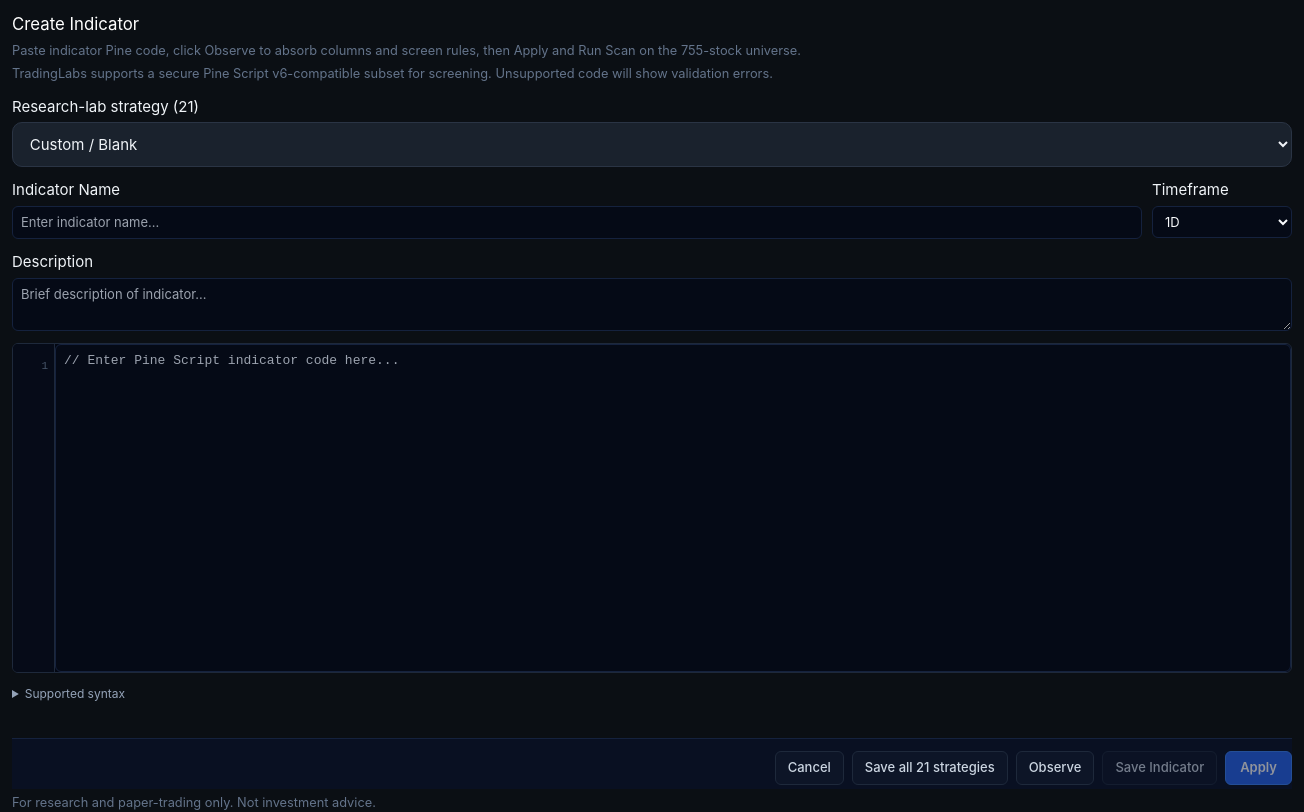
Test: IndicatorEditorPanel › validates successfully and enables save
Type "52-Week High Breakout [SCAN]" into the field with test id "input-indicator-name". click: x=577, y=223
box: [12,206,1142,239]
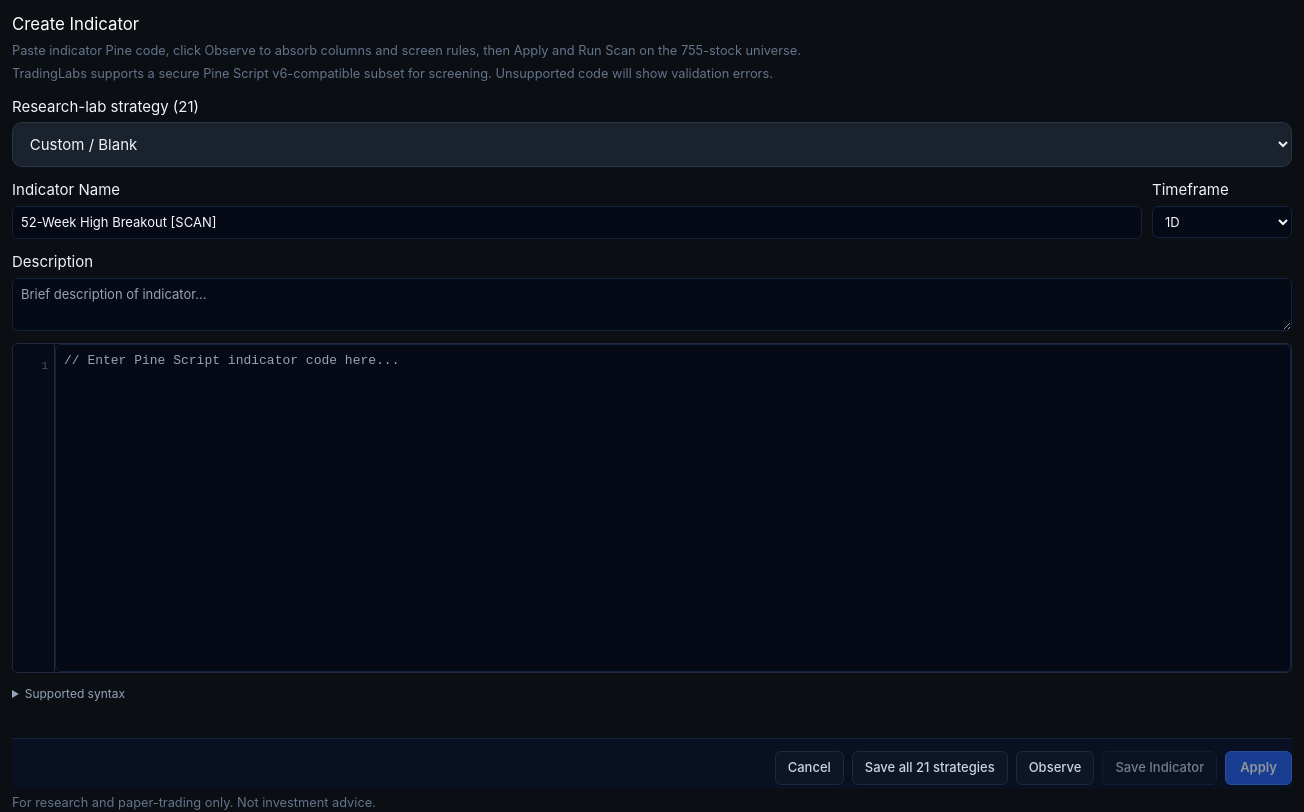
Type "//@version=6 indicator(\"52-Week High Breakout [SCAN]\", overlay=false) breakoutLength = input.int(252, \"Breakout Lookback\", minval=1) volumeLength = input.int(20, \"Volume SMA Length\", minval=1) atrLeng" into the text box with test id "pine-textarea". click: x=673, y=508
box: [55,344,1291,672]
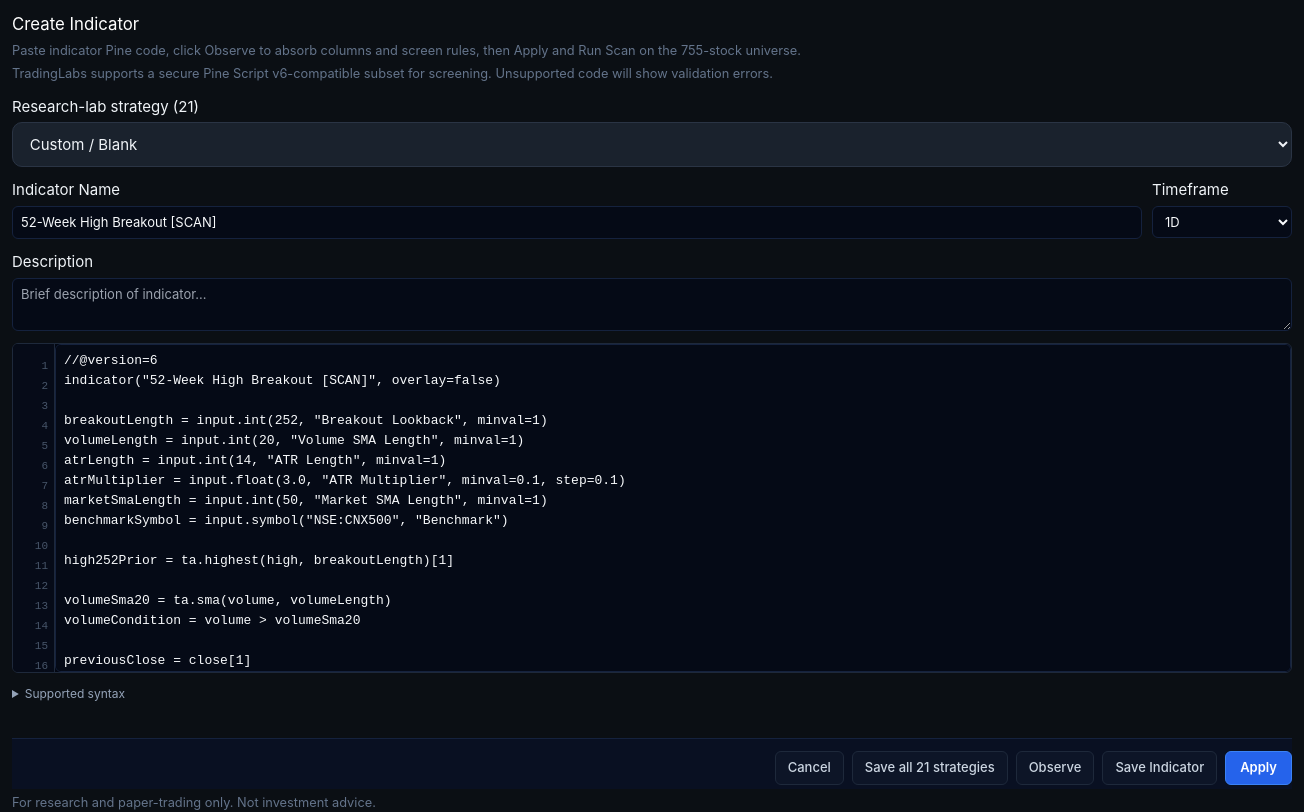
Click the button with test id "btn-validate-indicator". click: x=1055, y=768
box: [1016,751,1094,785]
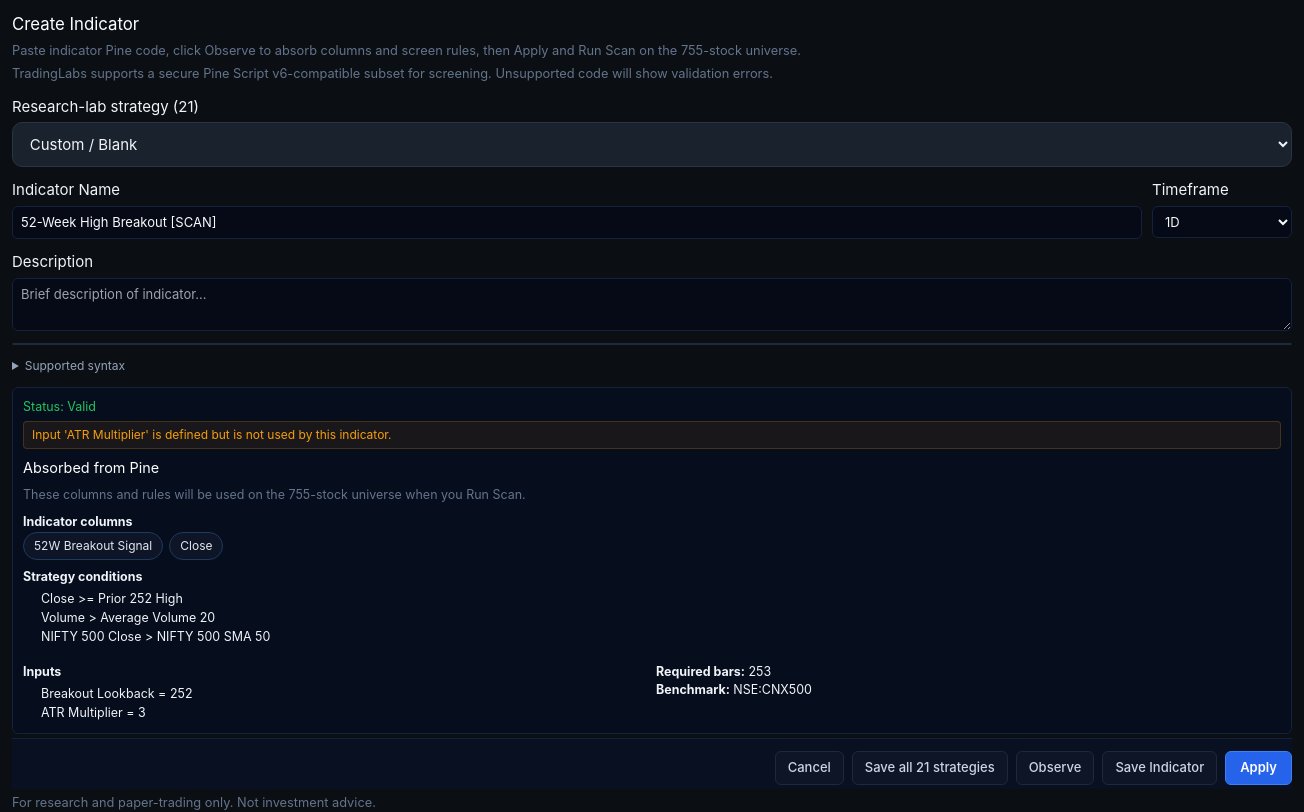
Result: the element with test id "indicator-validation-panel" shows "Valid" at [67,399,96,414]
Result: the element with test id "indicator-observe-summary" shows "Absorbed from Pine" at [23,459,159,476]
Result: the element with test id "indicator-observe-summary" shows "ATR Multiplier" at [41,705,123,720]
